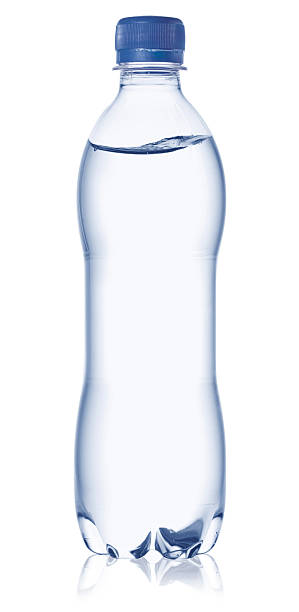HDPE Cap: (114, 15, 185, 49)
HDPE Ring: (115, 49, 184, 64)
PET Bottle: (72, 16, 226, 564)
